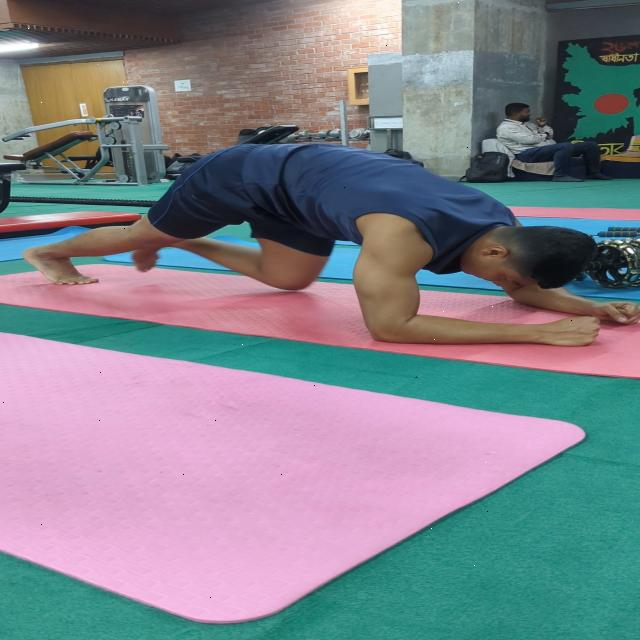Normal_MountainClimbers: (0, 118, 640, 364)
